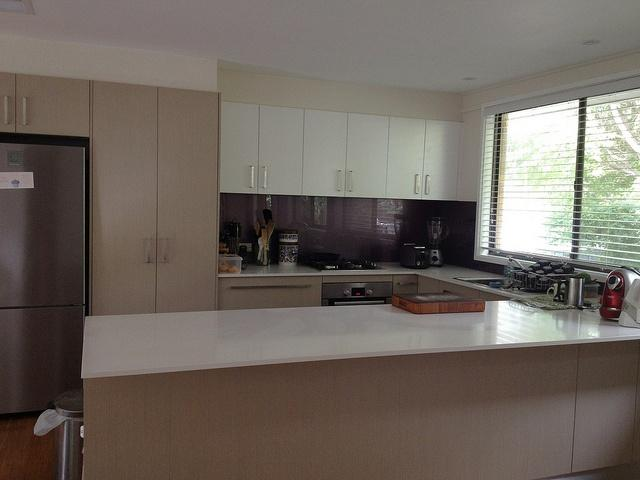Lemari: (88, 77, 221, 316), (218, 99, 463, 201)
